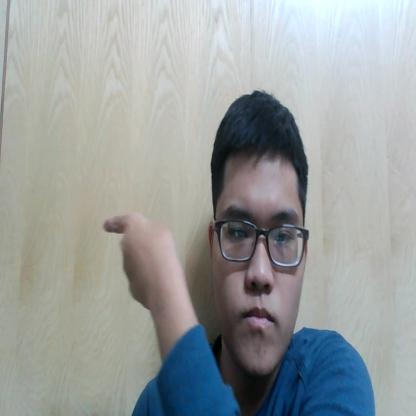right: (93, 202, 194, 308)
